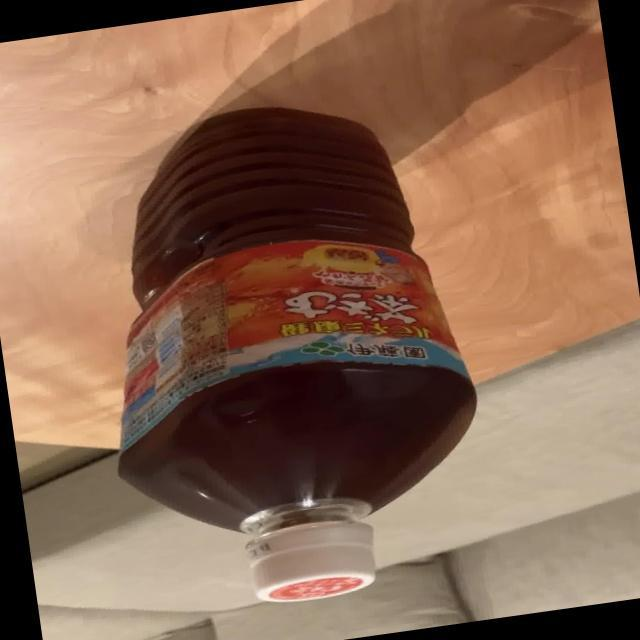good: (66, 83, 504, 626)
